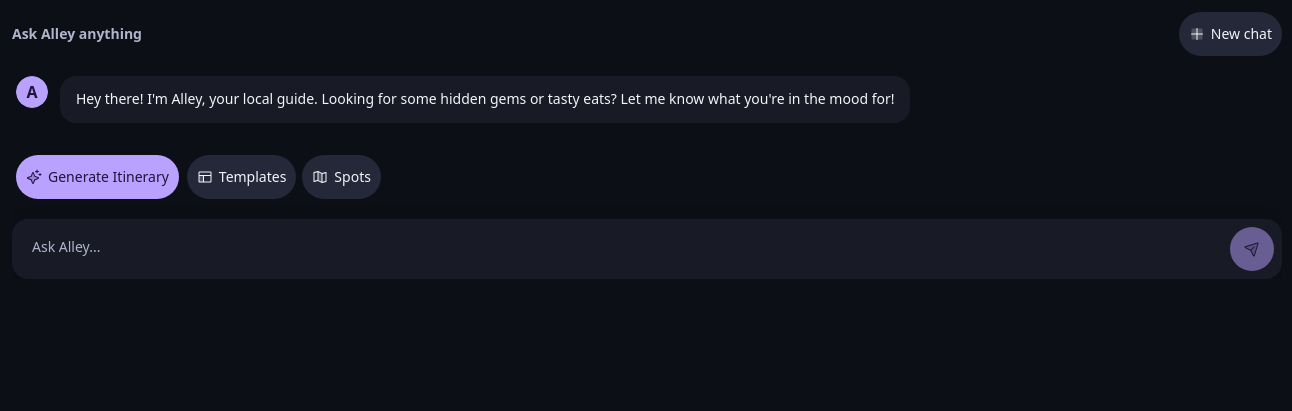
Test case: persisted chat exchange › never retries an uncertain model response and keeps the saved user message
Type "Hello Alley" into the text box with id "chat-input". click: point(621, 249)
box: [20,227,1222,271]
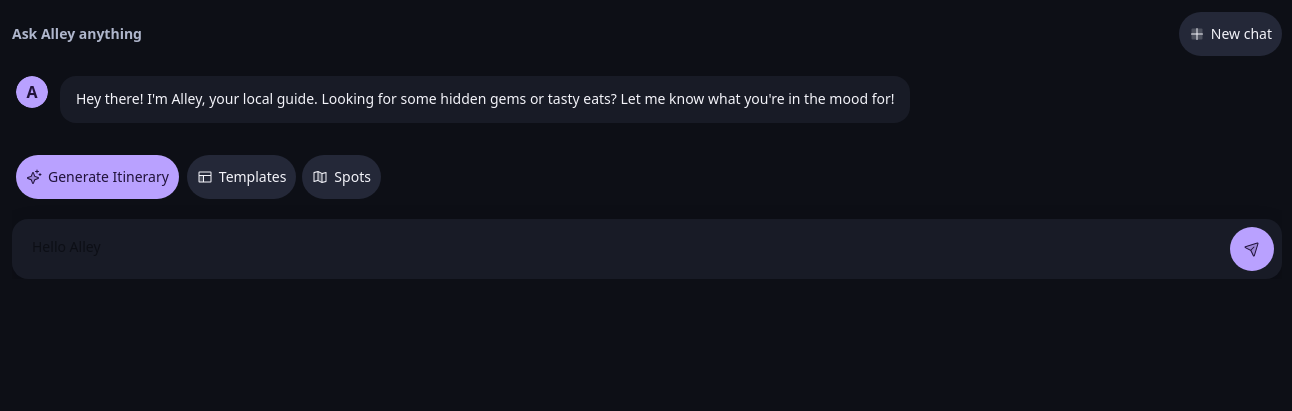
Click the button named "Send message". click: point(1252, 249)
box: [1230,227,1274,271]
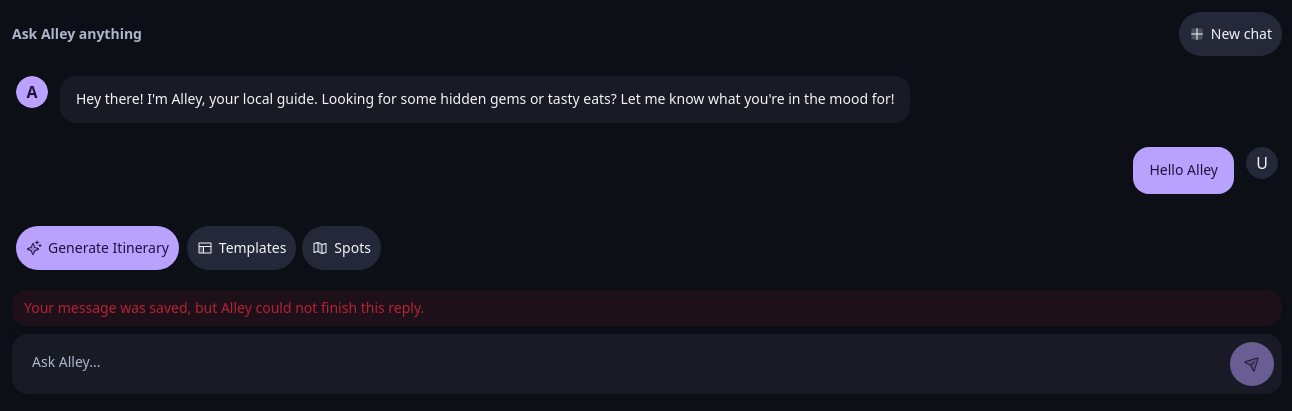
Check: the message reads "Your message was saved, but Alley could not finish this reply.", box [24,298,424,316]
